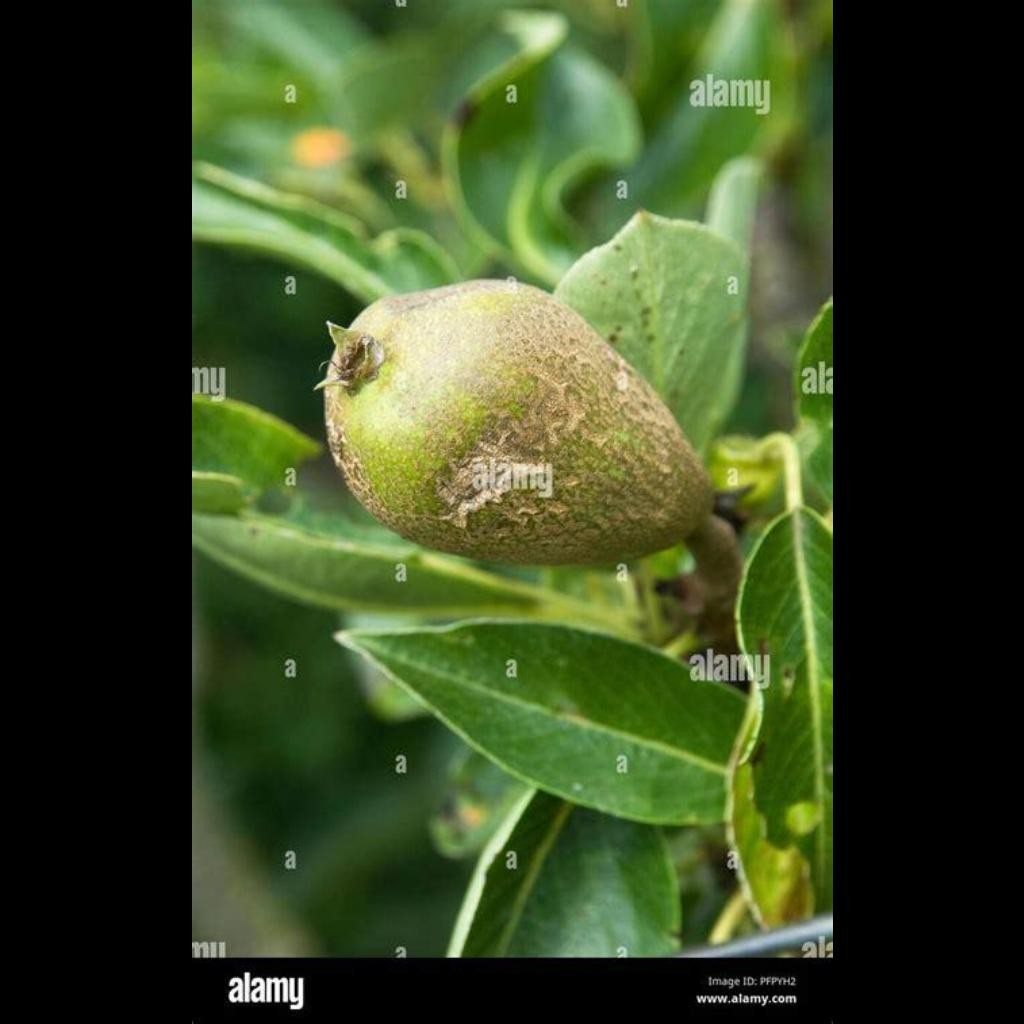Anthracnose: (290, 226, 722, 562)
